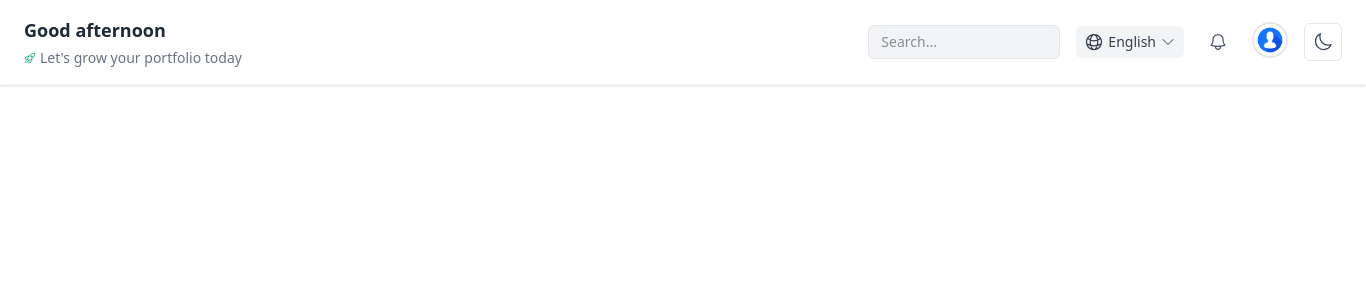
Test case: Topbar › closes an open dropdown when clicking outside of it
Click the button with aria-label "Language".
click(1130, 42)  # box [1076,26,1184,58]
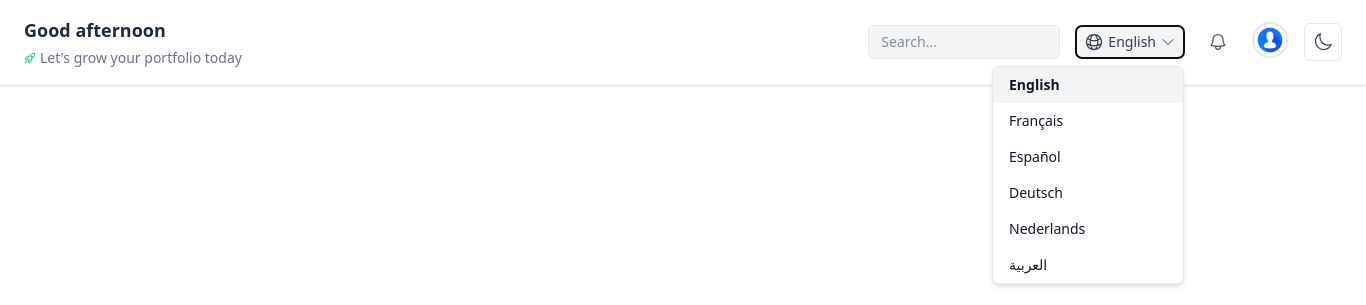
Expected: the option "Français" is shown, [993,103,1183,139]
Click the element that starts with "Good afternoon".
click(683, 42)  # box [0,0,1365,85]
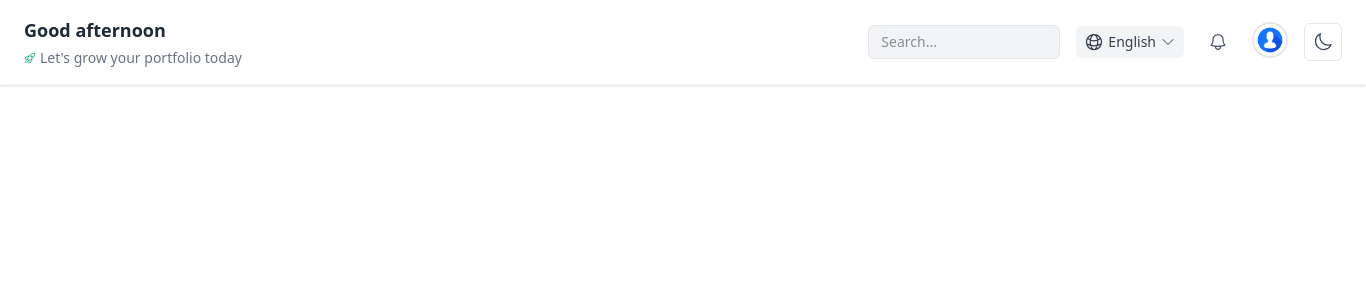
Expected: the option "Français" is gone
